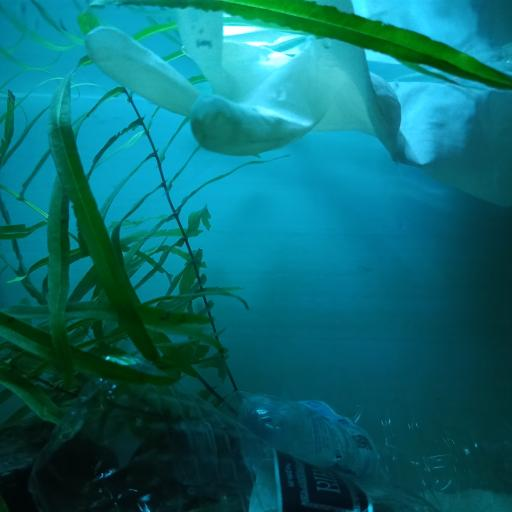glove: (83, 1, 512, 211)
plastic_bottle: (36, 357, 406, 512), (216, 382, 510, 503)
